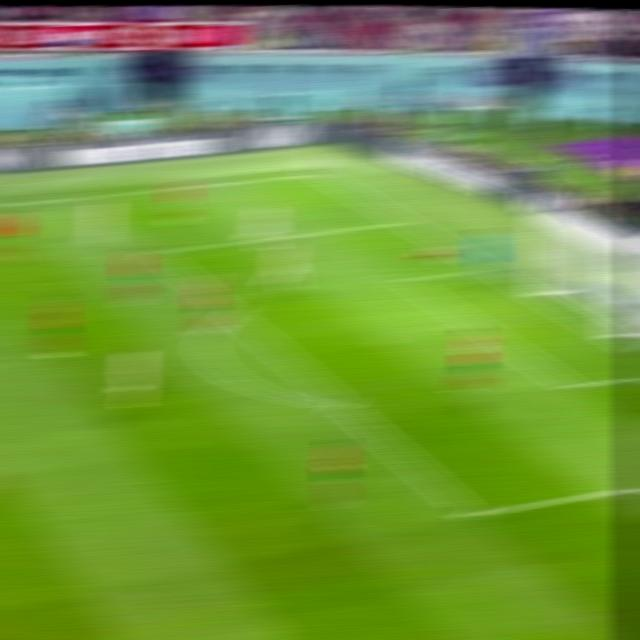bigarea_bottom_inner: (455, 500, 491, 526)
bigarea_top_inner: (142, 241, 170, 261)
bigarea_top_outter: (388, 211, 418, 229)
bottom_arc_area_intersection: (328, 395, 357, 415)
corner: (301, 167, 332, 181)
smallarea_bottom_inner: (554, 372, 589, 398)
smallarea_top_inner: (389, 268, 419, 289)
top_arc_area_intersection: (217, 303, 248, 323)
